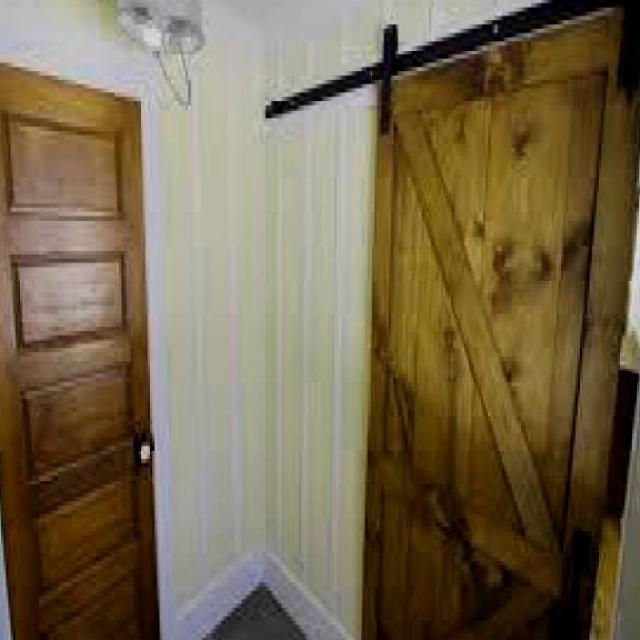door: (0, 62, 157, 638)
